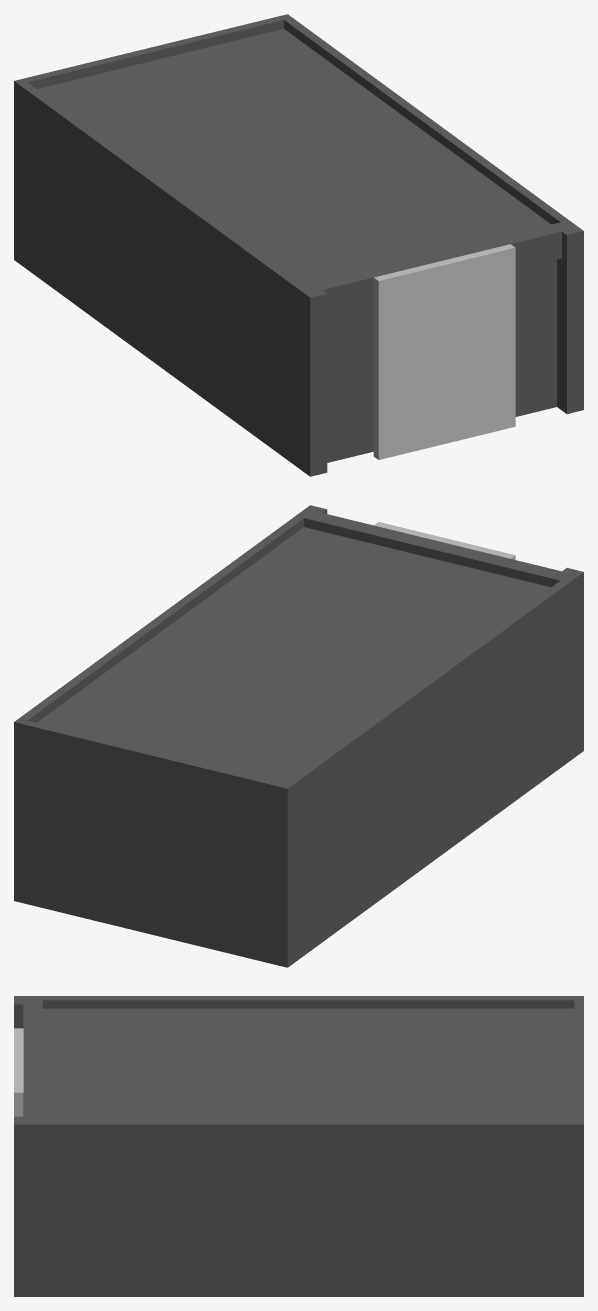
File: bld_story06c.obj
The picture shows the model from 3 angles, top to bottom: view 1: azimuth 30°, elevation 25°; view 2: azimuth 150°, elevation 25°; view 3: azimuth 270°, elevation 25°; orthographic projection. The views are drawn at different scales.
Bounding box in the file's own units: 32 × 20 × 60.
